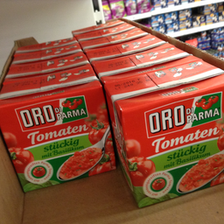tomato_sauce: (104, 56, 224, 209), (1, 63, 116, 194)
